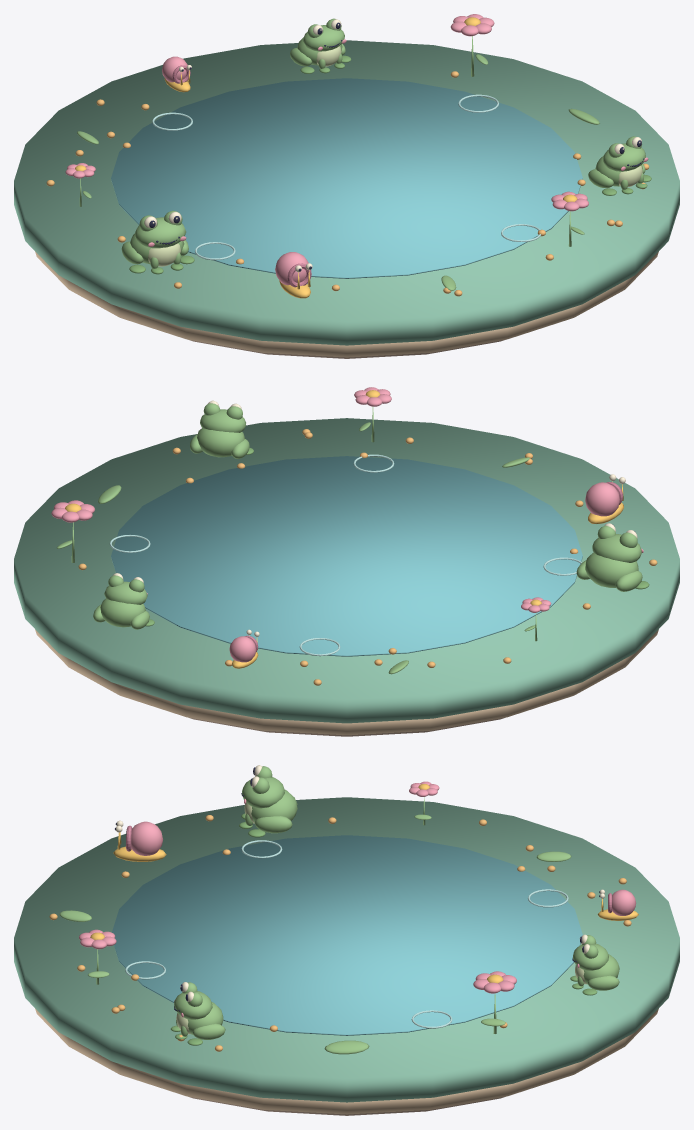
File: world.glb
3 renders of one model, top to bottom at view 1: azimuth 30°, elevation 25°; view 2: azimuth 150°, elevation 25°; view 3: azimuth 270°, elevation 25°, orthographic.
Visible parts, largest first — view 1: Cone, Cone.003, Cone.001, frog.002, frog.003, frog.001, snail.002, flower.001, snail.001, flower.003, Cone.002; view 2: Cone, Cone.003, Cone.001, frog.002, frog.003, frog.001, snail.002, flower.001, snail.001, flower.003, Cone.002; view 3: Cone, Cone.003, Cone.001, frog.002, frog.003, frog.001, snail.002, flower.001, snail.001, flower.003, Cone.002.
Boxes of the visible parts, box(x1,y1,x2,y2) form: Cone: box(14, 40, 679, 345); Cone.003: box(111, 78, 582, 278); Cone.001: box(35, 251, 658, 357); frog.002: box(121, 210, 194, 274); frog.003: box(588, 136, 651, 195); frog.001: box(290, 18, 351, 73); snail.002: box(275, 252, 312, 298); flower.001: box(450, 14, 494, 76); snail.001: box(162, 56, 191, 92); flower.003: box(551, 191, 588, 246); Cone.002: box(188, 339, 505, 358); Cone: box(14, 418, 679, 723); Cone.003: box(111, 456, 582, 656); Cone.001: box(35, 629, 658, 735); frog.002: box(576, 523, 649, 591); frog.003: box(190, 400, 253, 458); frog.001: box(93, 573, 154, 629); snail.002: box(585, 474, 625, 523); flower.001: box(51, 500, 95, 562); snail.001: box(229, 629, 259, 668); flower.003: box(354, 387, 391, 442); Cone.002: box(189, 717, 504, 736); Cone: box(14, 797, 679, 1102); Cone.003: box(112, 835, 582, 1035); Cone.001: box(35, 1008, 658, 1114); frog.002: box(239, 765, 297, 837); frog.003: box(170, 982, 225, 1045); frog.001: box(570, 934, 619, 995); snail.002: box(113, 820, 166, 861); flower.001: box(473, 971, 516, 1033); snail.001: box(597, 889, 638, 920); flower.003: box(79, 929, 116, 984); Cone.002: box(188, 1096, 505, 1115).
Bounding box in the file's own units: 9.6 × 1.72 × 9.6.
